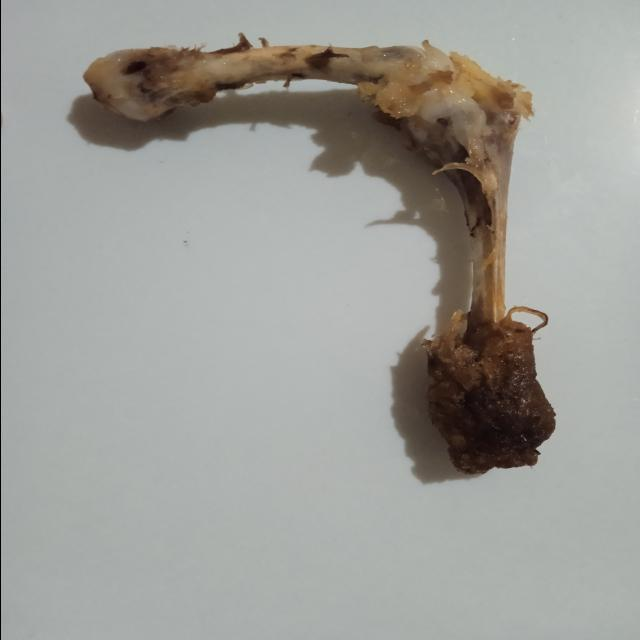bone: (44, 0, 586, 491)
